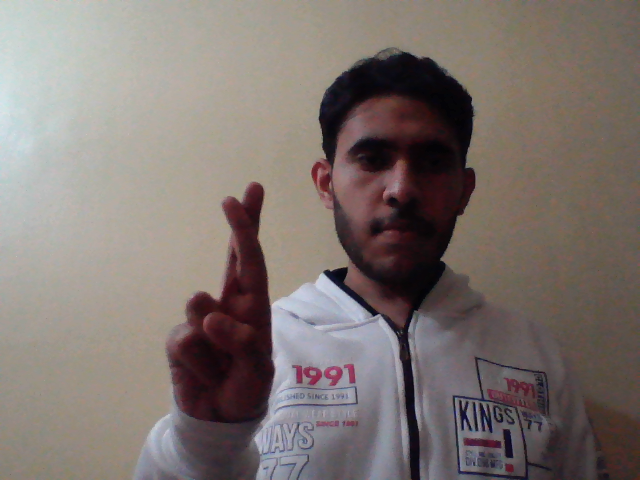R: (158, 174, 278, 427)
